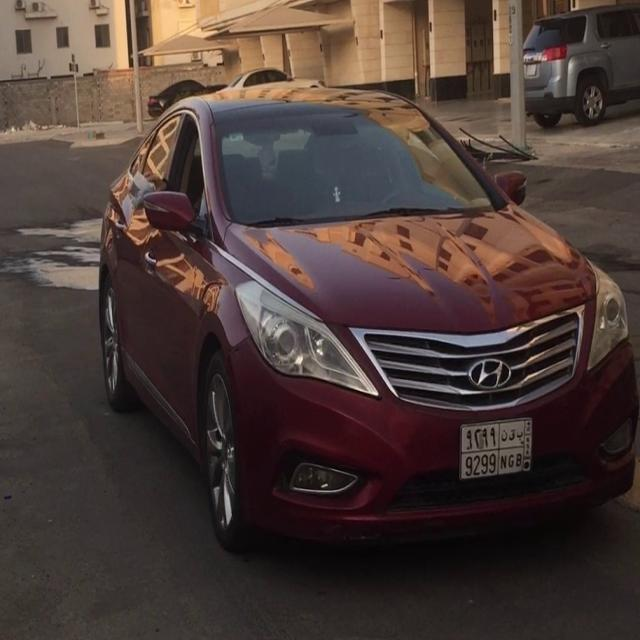Car-plate: (456, 416, 540, 484)
